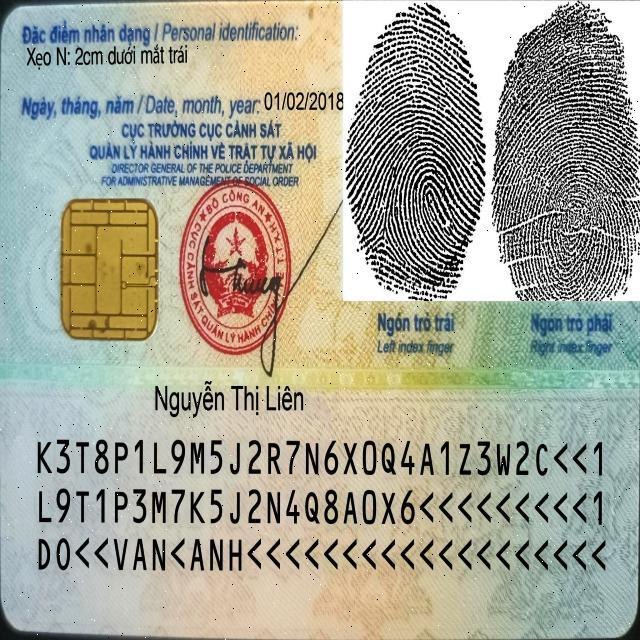features: (25, 40, 192, 74)
finger_print: (342, 2, 491, 359), (490, 3, 640, 357)
issue_date: (261, 83, 345, 117)
